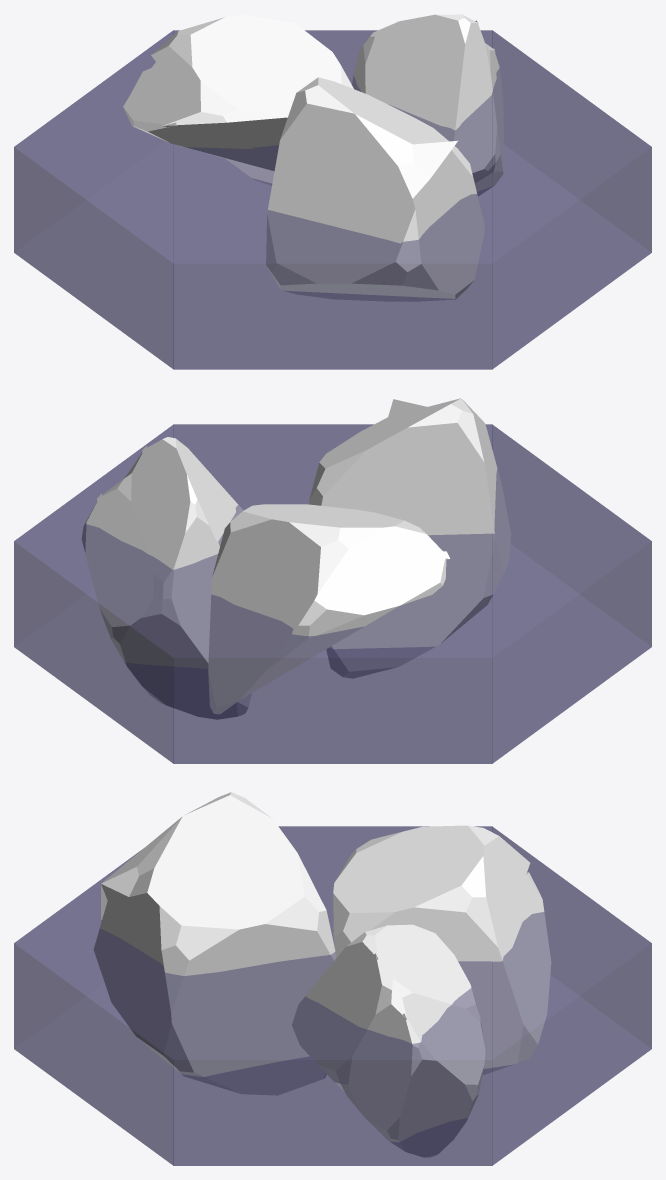
Rendered from HexCell_Arctic_2.glb.
The picture shows the model from 3 angles, top to bottom: view 1: azimuth 30°, elevation 25°; view 2: azimuth 150°, elevation 25°; view 3: azimuth 270°, elevation 25°; orthographic projection.
Parts seen in each view (by area): view 1: HexCell_Arctic_2; view 2: HexCell_Arctic_2; view 3: HexCell_Arctic_2.
Part boxes in pixels (box(x1,y1,x2,y2)): HexCell_Arctic_2: box(14, 14, 651, 369); HexCell_Arctic_2: box(14, 398, 651, 763); HexCell_Arctic_2: box(14, 792, 651, 1165).
Bounding box in the file's own units: 1.73 × 0.9784 × 2.
